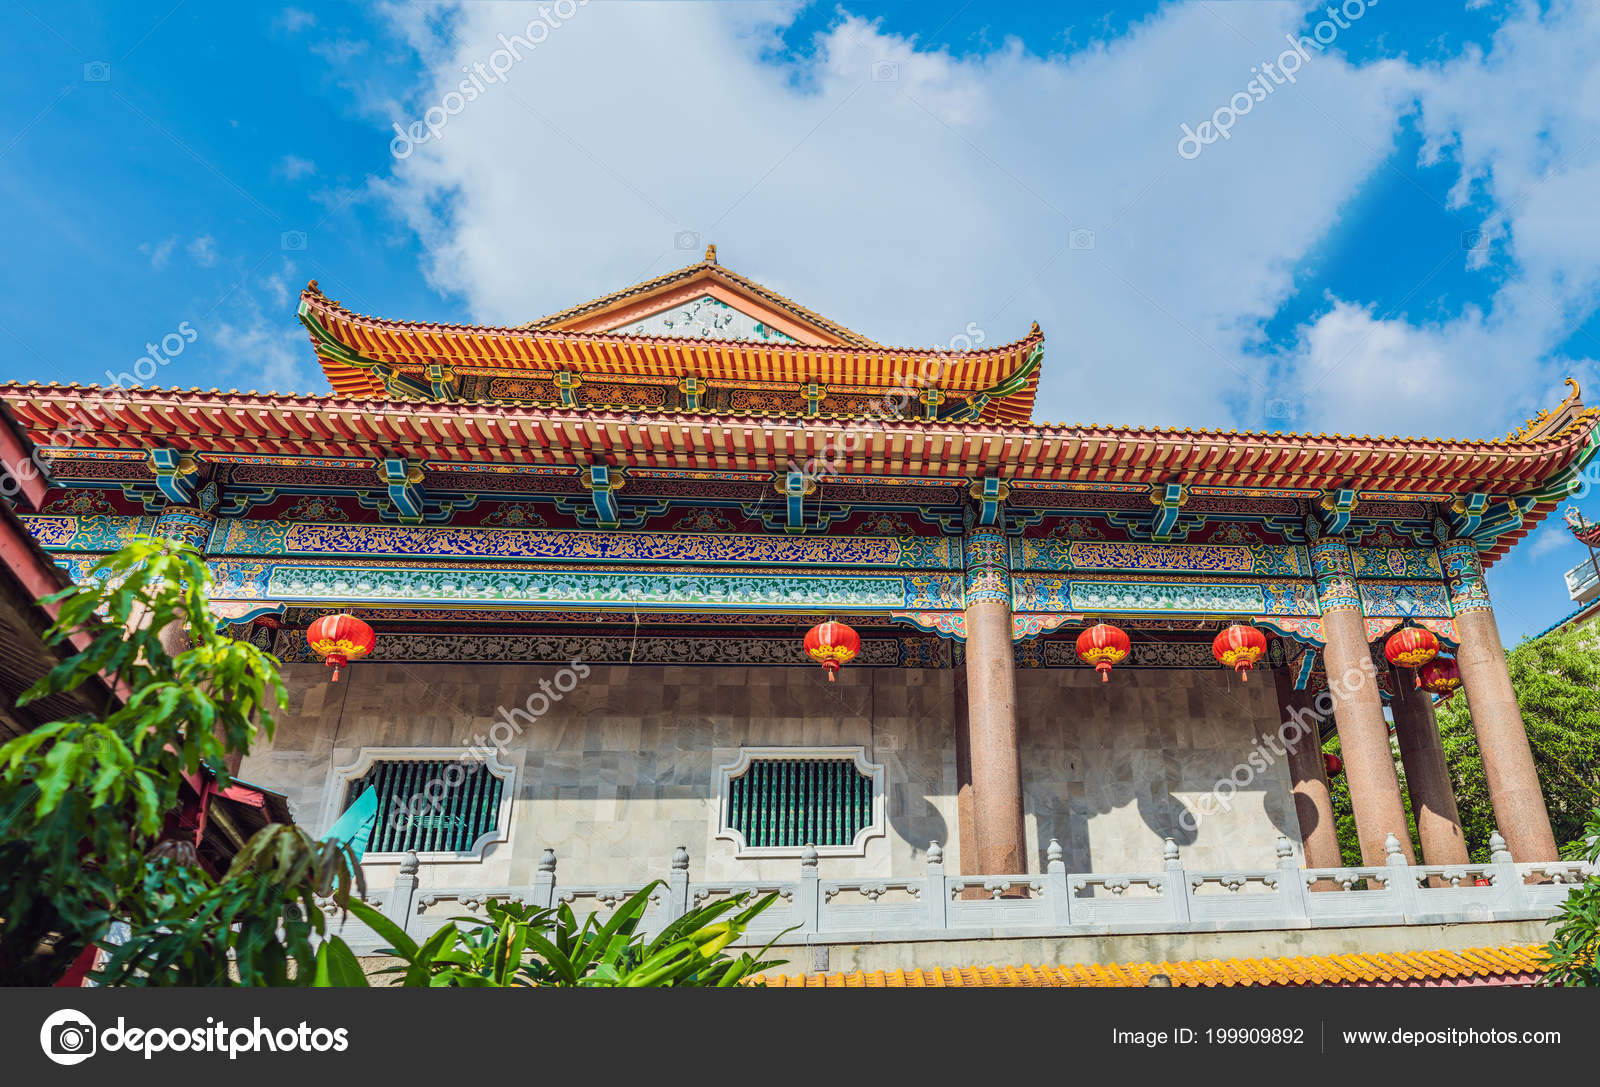Buddhist Temple: (27, 221, 1555, 941)
